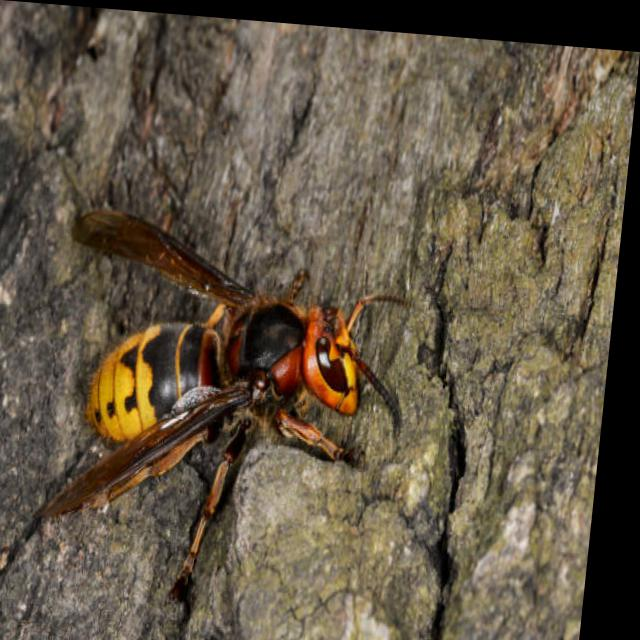Vespa Crabro: (42, 193, 433, 610)
